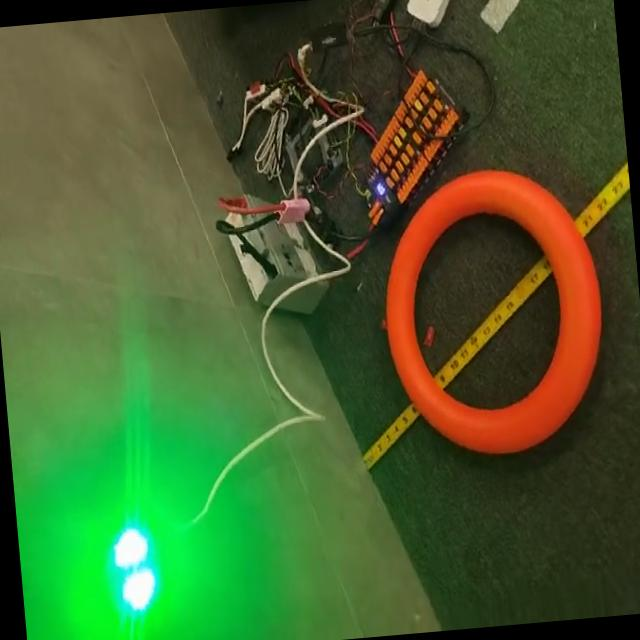note: (372, 161, 617, 469)
